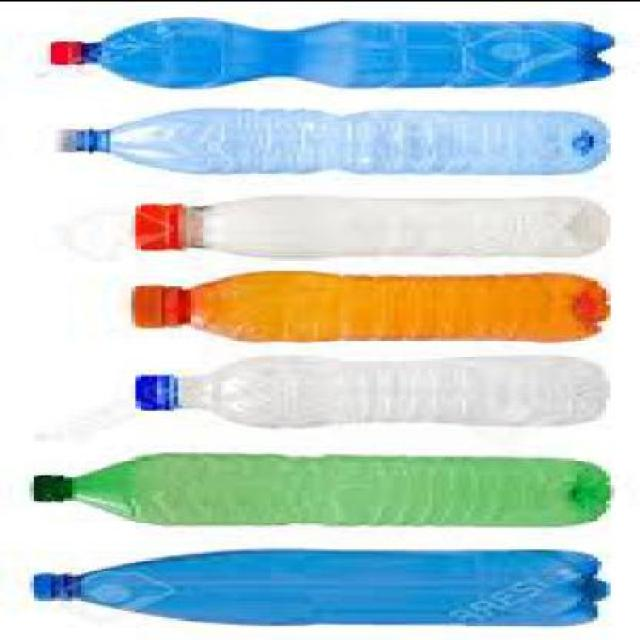PLASTIC: (25, 546, 606, 622), (25, 448, 606, 524), (46, 11, 606, 84), (51, 105, 602, 173), (127, 268, 607, 342), (128, 350, 602, 422), (128, 191, 602, 254), (128, 201, 186, 248), (123, 282, 182, 324), (128, 370, 174, 407), (26, 470, 68, 501), (50, 126, 101, 151), (29, 567, 72, 596), (46, 39, 89, 63)
